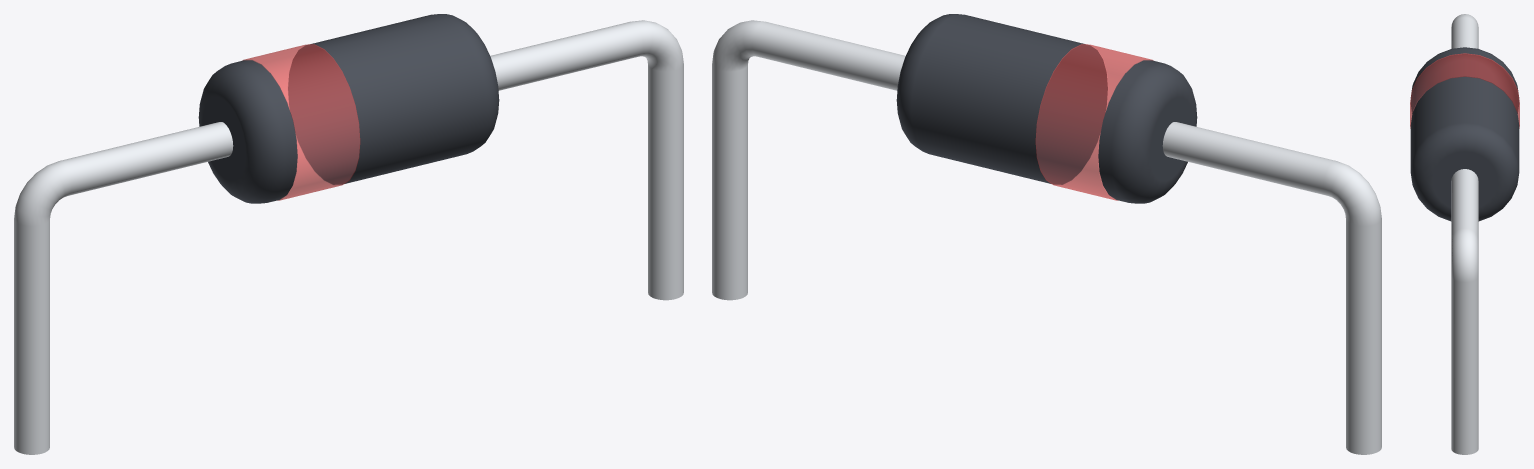
The model's file is diodo_zener.glb.
The picture shows the model from 3 angles, left to right: view 1: azimuth 30°, elevation 25°; view 2: azimuth 150°, elevation 25°; view 3: azimuth 270°, elevation 25°; orthographic projection. The views are drawn at different scales.
Parts seen in each view (by area): view 1: Encapsulado_2, Pines_0, Lente_LED_1; view 2: Encapsulado_2, Pines_0, Lente_LED_1; view 3: Encapsulado_2, Pines_0, Lente_LED_1.
Part boxes in pixels (bbox=[...]): Encapsulado_2: bbox=[198, 14, 499, 203]; Pines_0: bbox=[14, 20, 683, 454]; Lente_LED_1: bbox=[242, 44, 360, 200]; Encapsulado_2: bbox=[896, 14, 1197, 203]; Pines_0: bbox=[712, 20, 1381, 454]; Lente_LED_1: bbox=[1035, 44, 1153, 200]; Encapsulado_2: bbox=[1410, 47, 1519, 221]; Pines_0: bbox=[1451, 14, 1478, 454]; Lente_LED_1: bbox=[1410, 53, 1519, 128].
Size of the model in its own units: 10.66 by 5.01 by 2.02.
